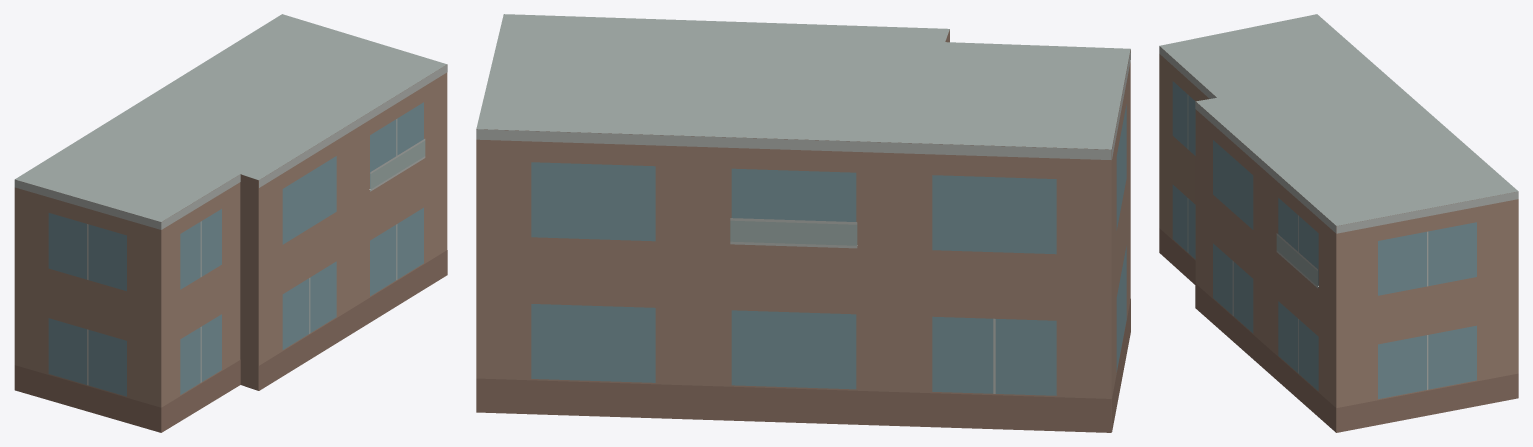
File: survey-upis-32965829.glb
3 views of the same model, side by side, from view 1: azimuth 30°, elevation 25°; view 2: azimuth 150°, elevation 25°; view 3: azimuth 270°, elevation 25° (orthographic). The views are drawn at different scales.
Parts seen in each view (by area): view 1: survey-upis-32965829.tmp; view 2: survey-upis-32965829.tmp; view 3: survey-upis-32965829.tmp.
Boxes of the visible parts, bbox=[...] form: survey-upis-32965829.tmp: bbox=[14, 14, 447, 432]; survey-upis-32965829.tmp: bbox=[476, 14, 1130, 432]; survey-upis-32965829.tmp: bbox=[1159, 14, 1518, 432].
Size of the model in its own units: 14.29 by 6.5 by 10.24.
